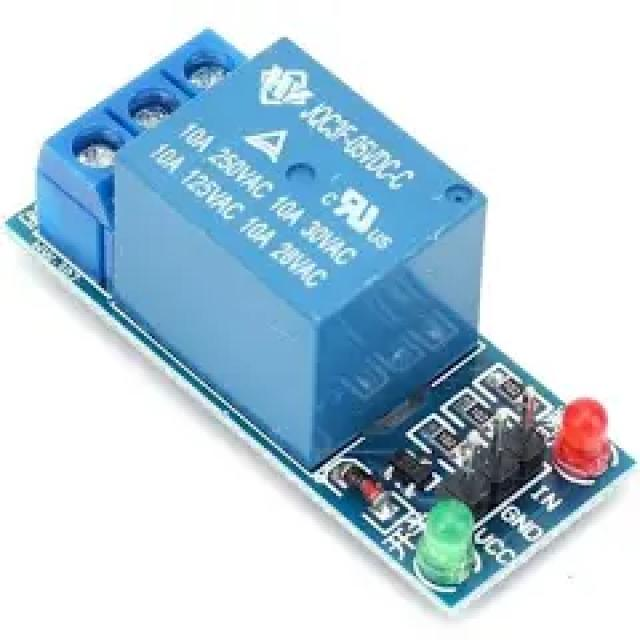Relay: (107, 41, 480, 457), (37, 32, 243, 282), (38, 122, 116, 221), (157, 34, 241, 104), (117, 74, 190, 130)
